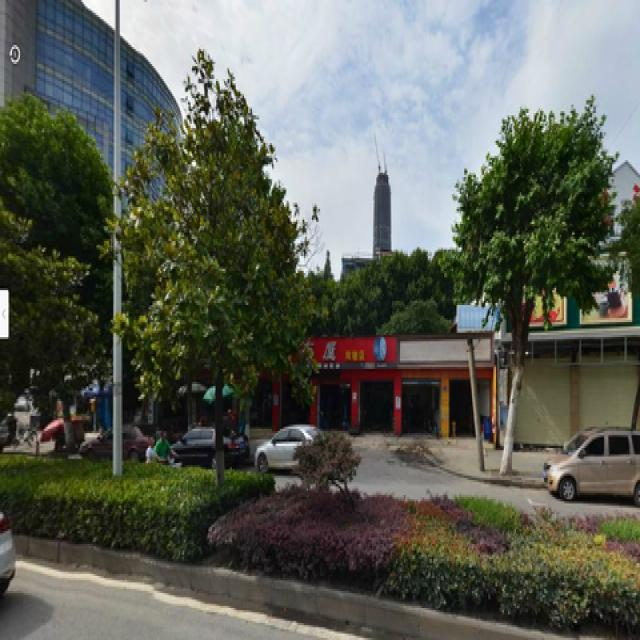magn: (134, 70, 318, 503)
